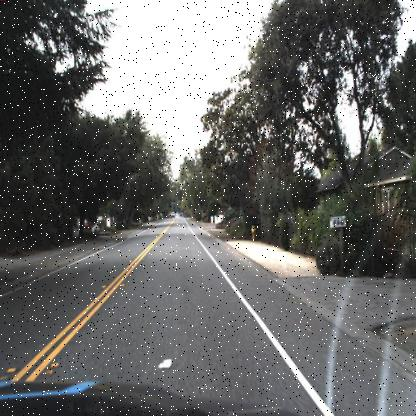car: (171, 212, 175, 218)
